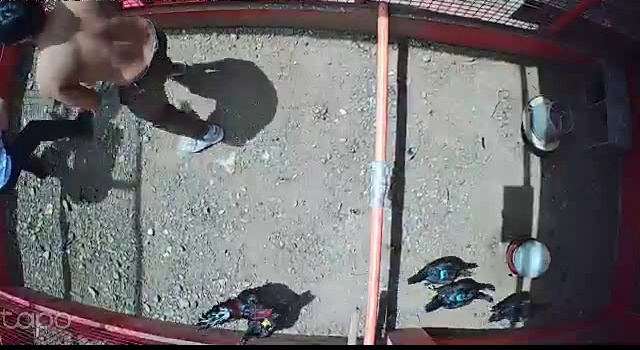Chicken: (424, 276, 502, 320), (239, 297, 295, 347), (485, 286, 553, 327), (405, 254, 482, 289)
Saddle_Color_Yellow: (261, 317, 270, 329)
